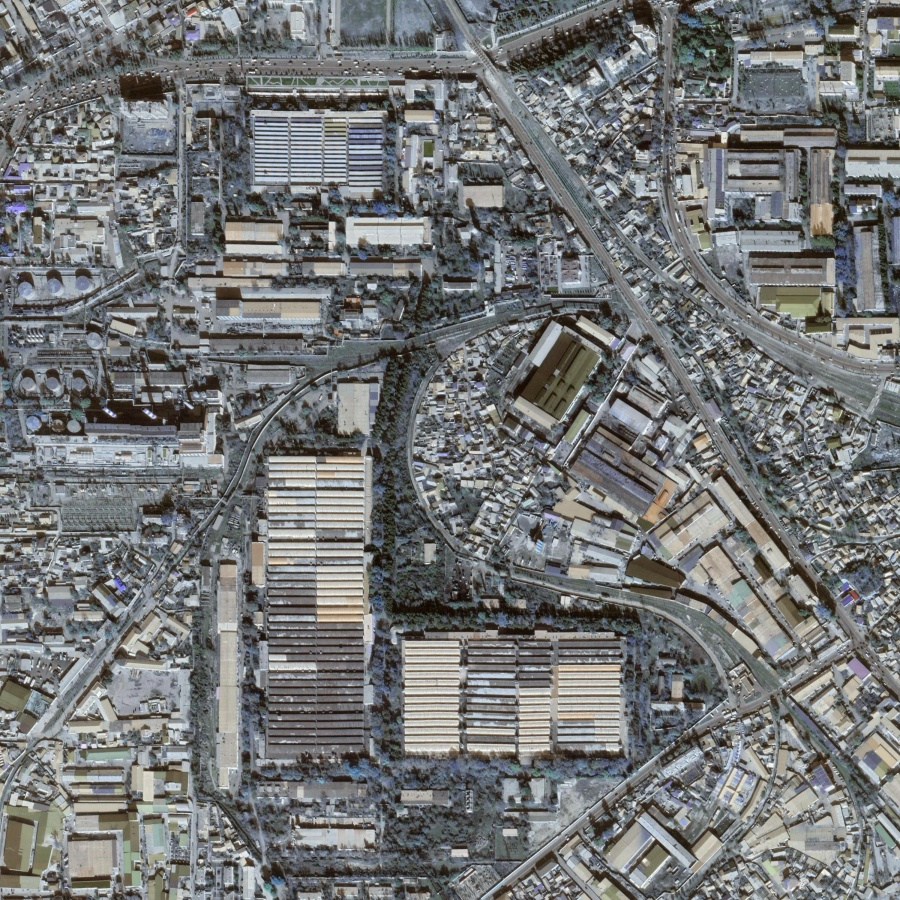PowerPlant: (8, 322, 229, 533)
